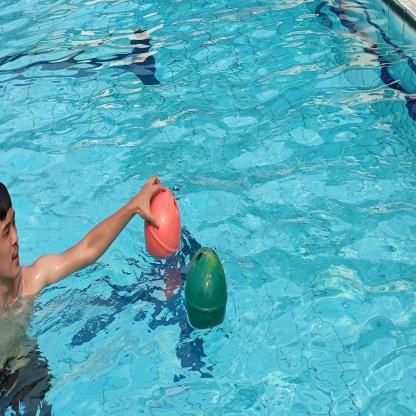green_buoy: (184, 244, 228, 329)
red_buoy: (143, 184, 182, 259)
